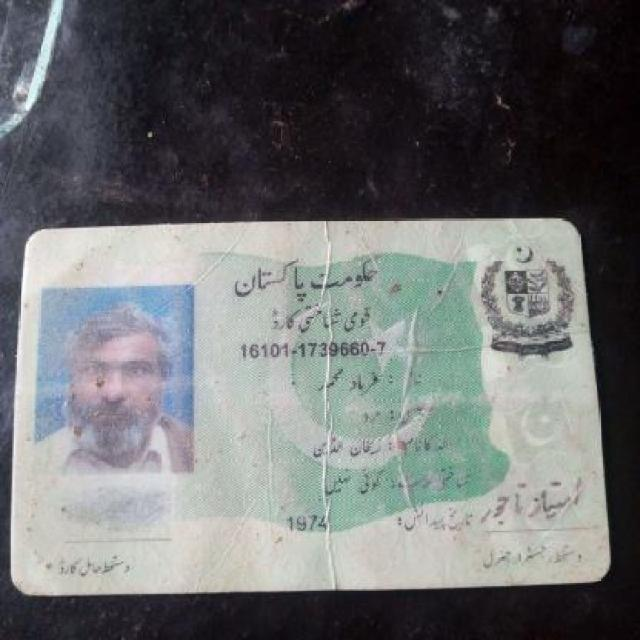Front: (9, 217, 614, 595)
